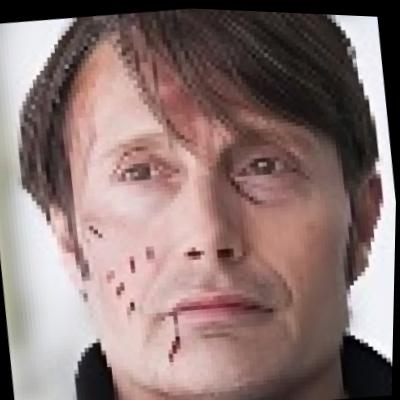sad: (52, 33, 356, 384)
